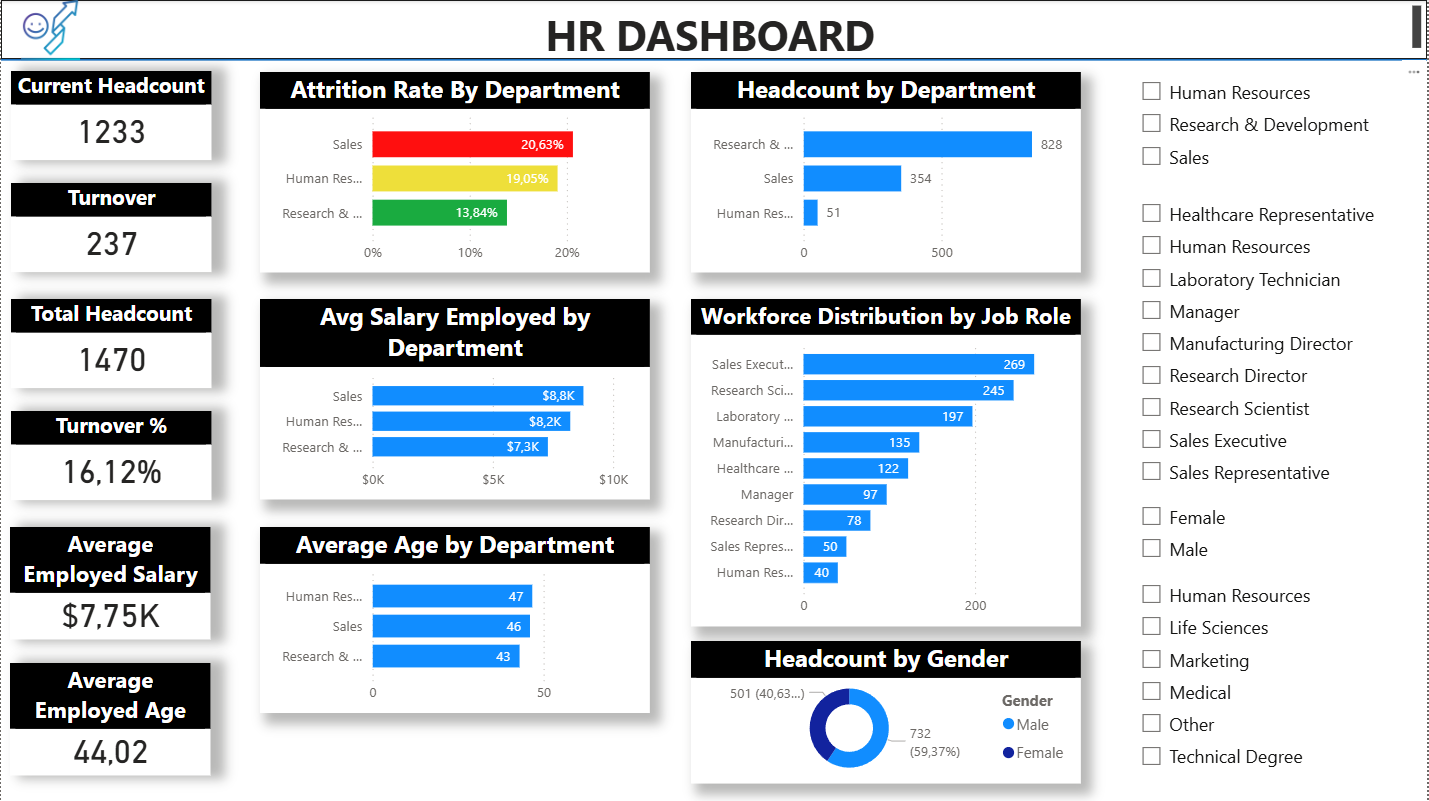

What the dashboard file says about the page in this screenshot:
{"tool":"powerbi","page":{"name":"Dashboard","canvas":[1280,720],"ordinal":1},"visuals":[{"type":"shape","box":[0,42.2,1280.2,22.4],"z":0},{"type":"textbox","box":[0,0,1280.2,53],"z":1000},{"type":"image","box":[9,0,70.9,53.9],"z":2000},{"type":"card","title":"Current Headcount","fields":{"Values":["_Measure.Headcount"]},"box":[9,63.7,180,80],"z":3000},{"type":"card","title":"Total Headcount","fields":{"Values":["_Measure.Total Headcount"]},"box":[9,268.4,180.4,79.9],"z":4000},{"type":"card","title":"Turnover","fields":{"Values":["_Measure.Turnover"]},"box":[9,164.3,180.4,79.9],"z":5000},{"type":"card","title":"Turnover %","fields":{"Values":["_Measure.Turnover %"]},"box":[9,369,180.4,79.9],"z":6000},{"type":"card","title":"Average Employed Salary","fields":{"Values":["_Measure.Avg Salary Employed"]},"box":[8.1,473.1,180.4,101.4],"z":7000},{"type":"card","title":"Average Employed Age","fields":{"Values":["_Measure.Age avg Employed"]},"box":[8.1,595.2,180.4,101.4],"z":8000},{"type":"clusteredBarChart","fields":{"Category":["D_Department.Department"],"Y":["_Measure.Headcount"]},"box":[619.5,64.6,350.1,180.4],"z":9000},{"type":"clusteredBarChart","title":"Attrition Rate By Department","fields":{"Category":["D_Department.Department"],"Y":["_Measure.Turnover %"]},"box":[232.5,64.6,350.1,180.4],"z":10000},{"type":"clusteredBarChart","title":"Average Age by Department","fields":{"Category":["D_Department.Department"],"Y":["_Measure.Age avg Employed"]},"box":[232.5,473.1,350.1,167],"z":11000},{"type":"clusteredBarChart","fields":{"Category":["D_Department.Department"],"Y":["_Measure.Avg Salary Employed"]},"box":[232.5,268.4,350.1,180.4],"z":12000},{"type":"clusteredBarChart","title":"Workforce Distribution by Job Role","fields":{"Category":["D_JobRole.JobRole"],"Y":["_Measure.Headcount"]},"box":[619.5,268.4,350.1,293.6],"z":13000},{"type":"donutChart","fields":{"Y":["_Measure.Headcount"],"Category":["D_Gender.Gender"]},"box":[619.5,575.5,350.1,128.4],"z":13001},{"type":"slicer","fields":{"Values":["D_Department.Department"]},"box":[1011.8,62.8,230.7,101.4],"z":13002},{"type":"slicer","fields":{"Values":["D_JobRole.JobRole"]},"box":[1011.8,172.4,231.6,272],"z":13003},{"type":"slicer","fields":{"Values":["D_Gender.Gender"]},"box":[1011.8,444.4,182.2,70],"z":13004},{"type":"slicer","fields":{"Values":["D_EducationField.EducationField"]},"box":[1011.8,514.4,230.7,188.5],"z":13005}]}

Visuals, with their boxes in screenshot pixels (x1, y1, x2, y2), scaled from the page's 1280x720 canvas onto the 1429x801 screenshot:
shape: [x1=0, y1=47, x2=1428, y2=72]
textbox: [x1=0, y1=0, x2=1428, y2=59]
image: [x1=10, y1=0, x2=89, y2=60]
"Current Headcount" card: [x1=10, y1=71, x2=211, y2=160]
"Total Headcount" card: [x1=10, y1=299, x2=211, y2=387]
"Turnover" card: [x1=10, y1=183, x2=211, y2=272]
"Turnover %" card: [x1=10, y1=411, x2=211, y2=499]
"Average Employed Salary" card: [x1=9, y1=526, x2=210, y2=639]
"Average Employed Age" card: [x1=9, y1=662, x2=210, y2=775]
clusteredBarChart - D_Department.Department x _Measure.Headcount: [x1=692, y1=72, x2=1082, y2=273]
"Attrition Rate By Department" clusteredBarChart: [x1=260, y1=72, x2=650, y2=273]
"Average Age by Department" clusteredBarChart: [x1=260, y1=526, x2=650, y2=712]
clusteredBarChart - D_Department.Department x _Measure.Avg Salary Employed: [x1=260, y1=299, x2=650, y2=499]
"Workforce Distribution by Job Role" clusteredBarChart: [x1=692, y1=299, x2=1082, y2=625]
donutChart - _Measure.Headcount x D_Gender.Gender: [x1=692, y1=640, x2=1082, y2=783]
slicer - D_Department.Department: [x1=1130, y1=70, x2=1387, y2=183]
slicer - D_JobRole.JobRole: [x1=1130, y1=192, x2=1388, y2=494]
slicer - D_Gender.Gender: [x1=1130, y1=494, x2=1333, y2=572]
slicer - D_EducationField.EducationField: [x1=1130, y1=572, x2=1387, y2=782]
